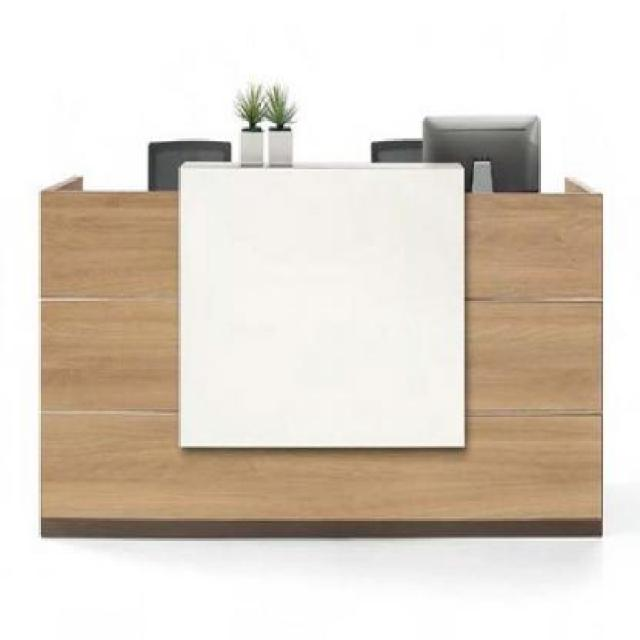frontdesk: (26, 158, 617, 546)
